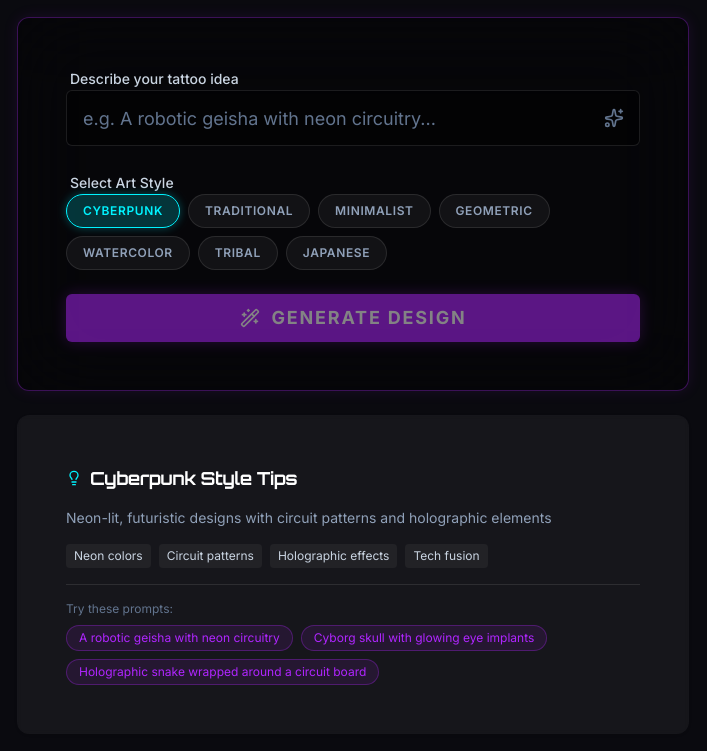
DemoGenerator › should update prompt when sample prompt is clicked
(page scrolled)
Click the button "A robotic geisha with neon circuitry": (179, 638) [66, 625, 293, 651]
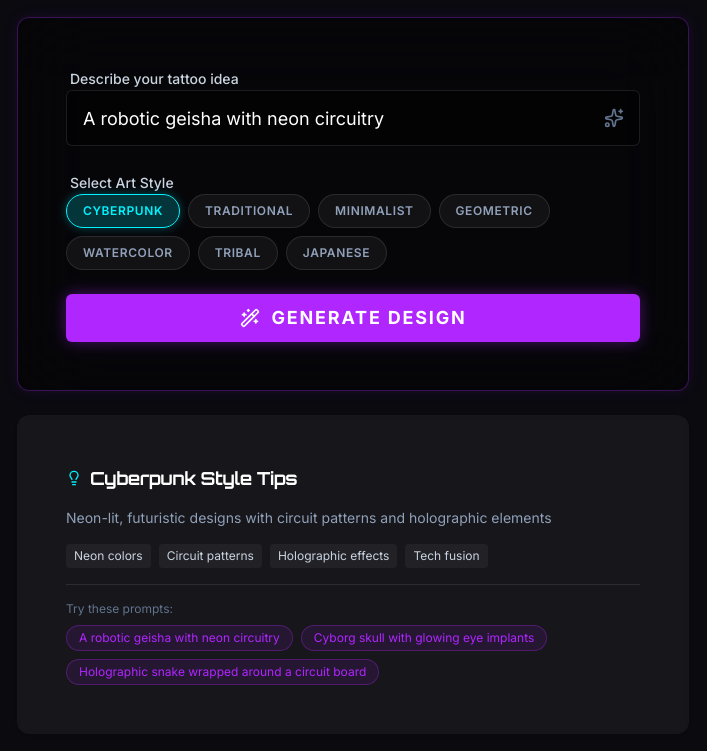
Expected: the field with placeholder "e.g. A robotic geisha with neon circuitry..." is not empty, [66, 90, 640, 146]
